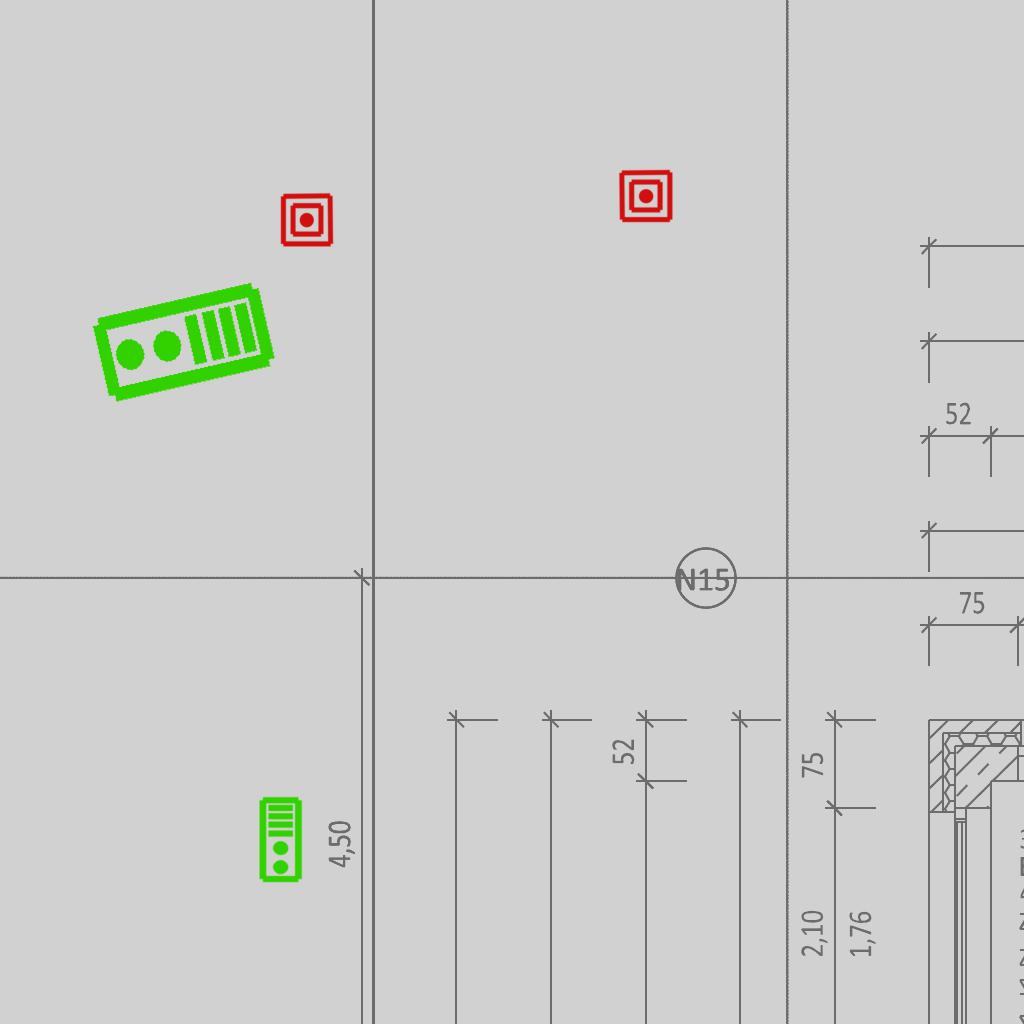Gegensprechanlage_mit_Video: (87, 277, 280, 411), (258, 796, 305, 884)
NAM-Nichtautomatischer_Melder: (279, 192, 335, 248), (618, 168, 674, 224)
